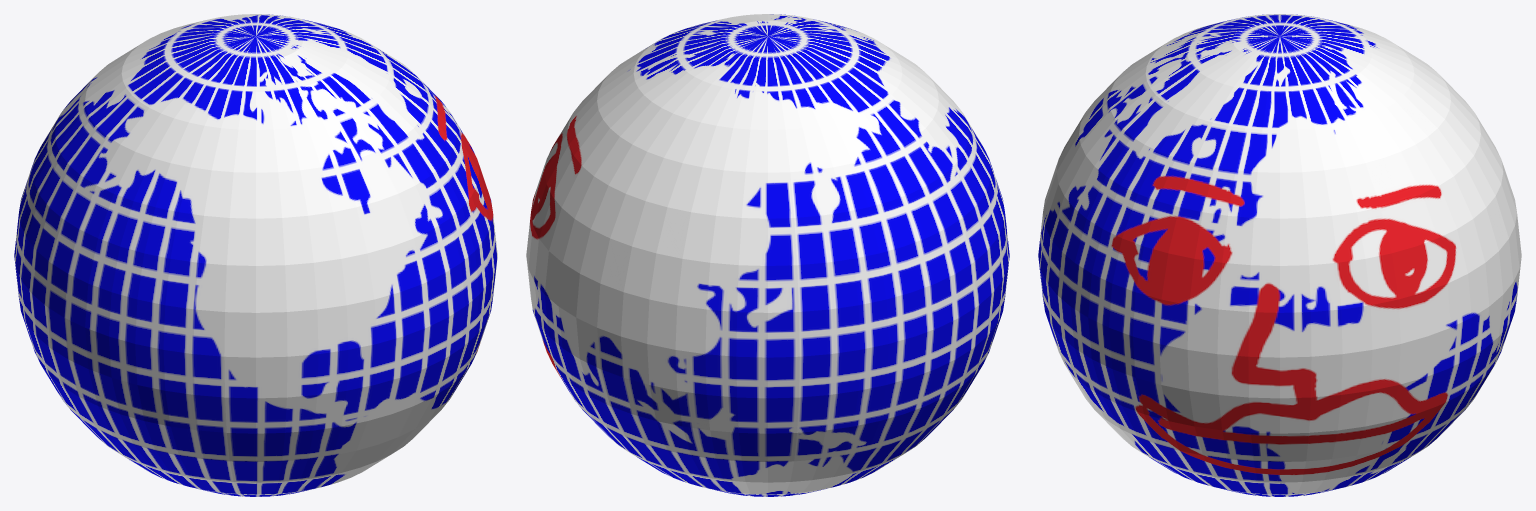
File: GLOBE-v1.glb
3 views of the same model, side by side, from view 1: azimuth 30°, elevation 25°; view 2: azimuth 150°, elevation 25°; view 3: azimuth 270°, elevation 25° (orthographic).
Parts seen in each view (by area): view 1: Sphere; view 2: Sphere; view 3: Sphere.
Boxes of the visible parts, x1,y1,x2,y2 form: Sphere: (14, 14, 497, 496); Sphere: (526, 14, 1009, 496); Sphere: (1038, 14, 1521, 496).
Bounding box in the file's own units: 28.66 × 28.66 × 28.66.
1 material, 1 textured.
